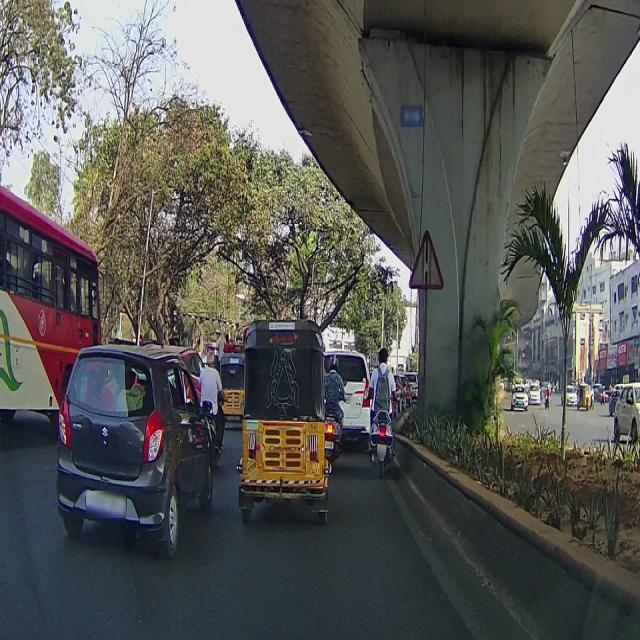gap-in-median: (408, 230, 447, 292)
